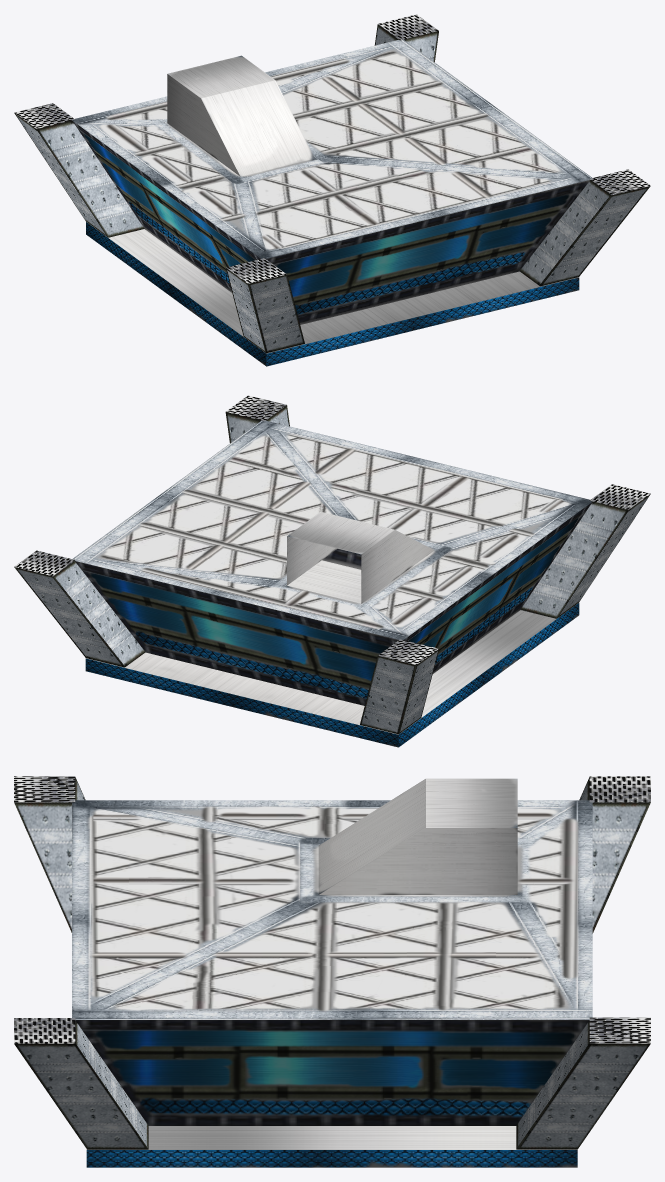
The model's file is Office.fbx.
3 views of the same model, one above another, from view 1: azimuth 30°, elevation 25°; view 2: azimuth 150°, elevation 25°; view 3: azimuth 270°, elevation 25° (orthographic). The views are drawn at different scales.
Visible parts, largest first — view 1: Office_LOD0; view 2: Office_LOD0; view 3: Office_LOD0.
Part boxes in pixels (x1,y1,x2,y2): Office_LOD0: (14,14,650,366); Office_LOD0: (14,395,650,747); Office_LOD0: (14,776,650,1167).
Size of what is drawn, in the model's own units: 558 by 215 by 562.
